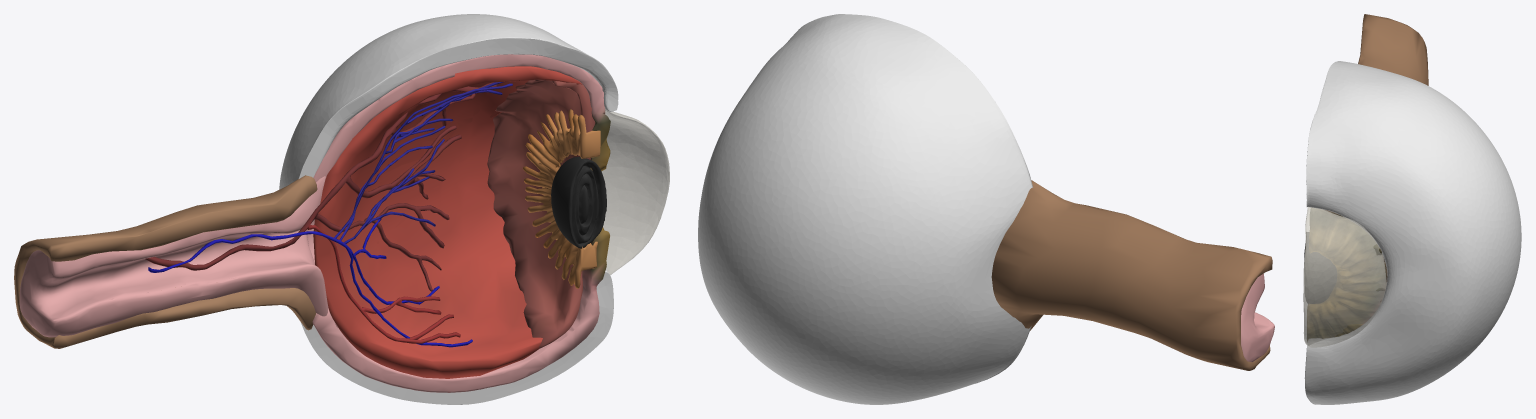
Rendered from eye.glb.
The picture shows the model from 3 angles, left to right: view 1: azimuth 30°, elevation 25°; view 2: azimuth 150°, elevation 25°; view 3: azimuth 270°, elevation 25°; orthographic projection. The views are drawn at different scales.
Visible parts, largest first — view 1: retina, optic nerve (×2), sclera, cilliary musles, choriod, cornea, superior central retinal artery, ciliary process, superior central retinal artery .001, lens; view 2: sclera, optic nerve (×2); view 3: sclera, cornea, choriod, optic nerve, lens.
Boxes of the visible parts, <box> form: retina: <box>313,66,582,378</box>; optic nerve (×2): <box>14,175,328,348</box>; sclera: <box>279,14,618,404</box>; cilliary musles: <box>487,79,595,348</box>; choriod: <box>306,54,610,392</box>; cornea: <box>601,110,669,274</box>; superior central retinal artery: <box>145,82,497,343</box>; ciliary process: <box>523,109,600,288</box>; superior central retinal artery .001: <box>148,82,512,347</box>; lens: <box>551,157,606,248</box>; sclera: <box>698,14,1032,404</box>; optic nerve (×2): <box>991,180,1274,370</box>; sclera: <box>1304,61,1521,404</box>; cornea: <box>1303,207,1386,347</box>; choriod: <box>1307,208,1387,341</box>; optic nerve: <box>1358,14,1428,85</box>; lens: <box>1304,232,1336,303</box>.
Size of the model in its own units: 9.33 by 5.53 by 3.51.
Materials: 11 (1 with a texture image).
